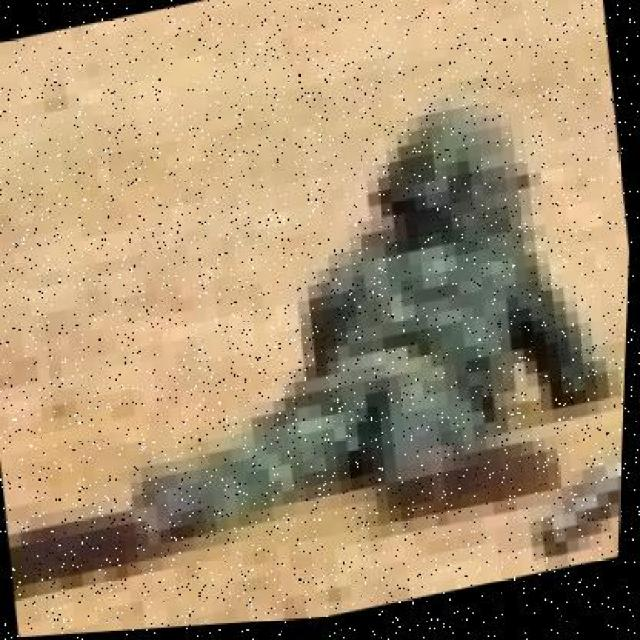MIL_Pax: (0, 35, 638, 639)
